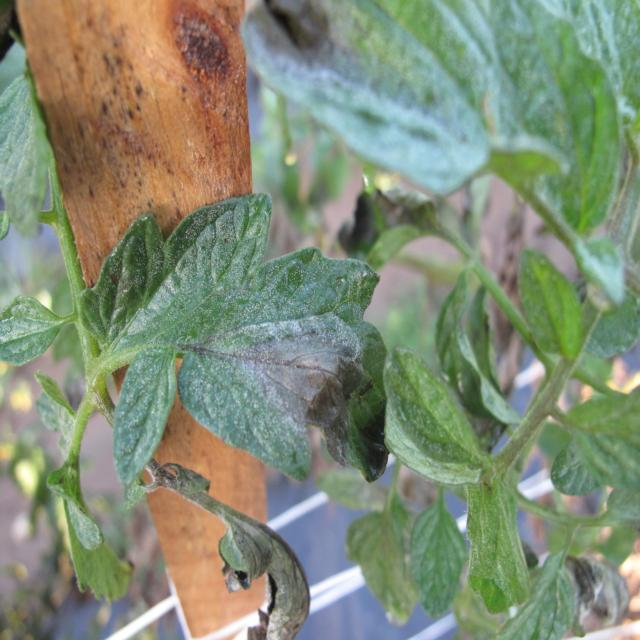Late_blight: (191, 312, 369, 475), (219, 510, 311, 640), (246, 2, 355, 93), (558, 552, 630, 630), (370, 181, 438, 242)
